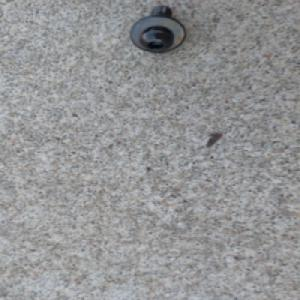BoltWasher: (124, 4, 186, 53)
